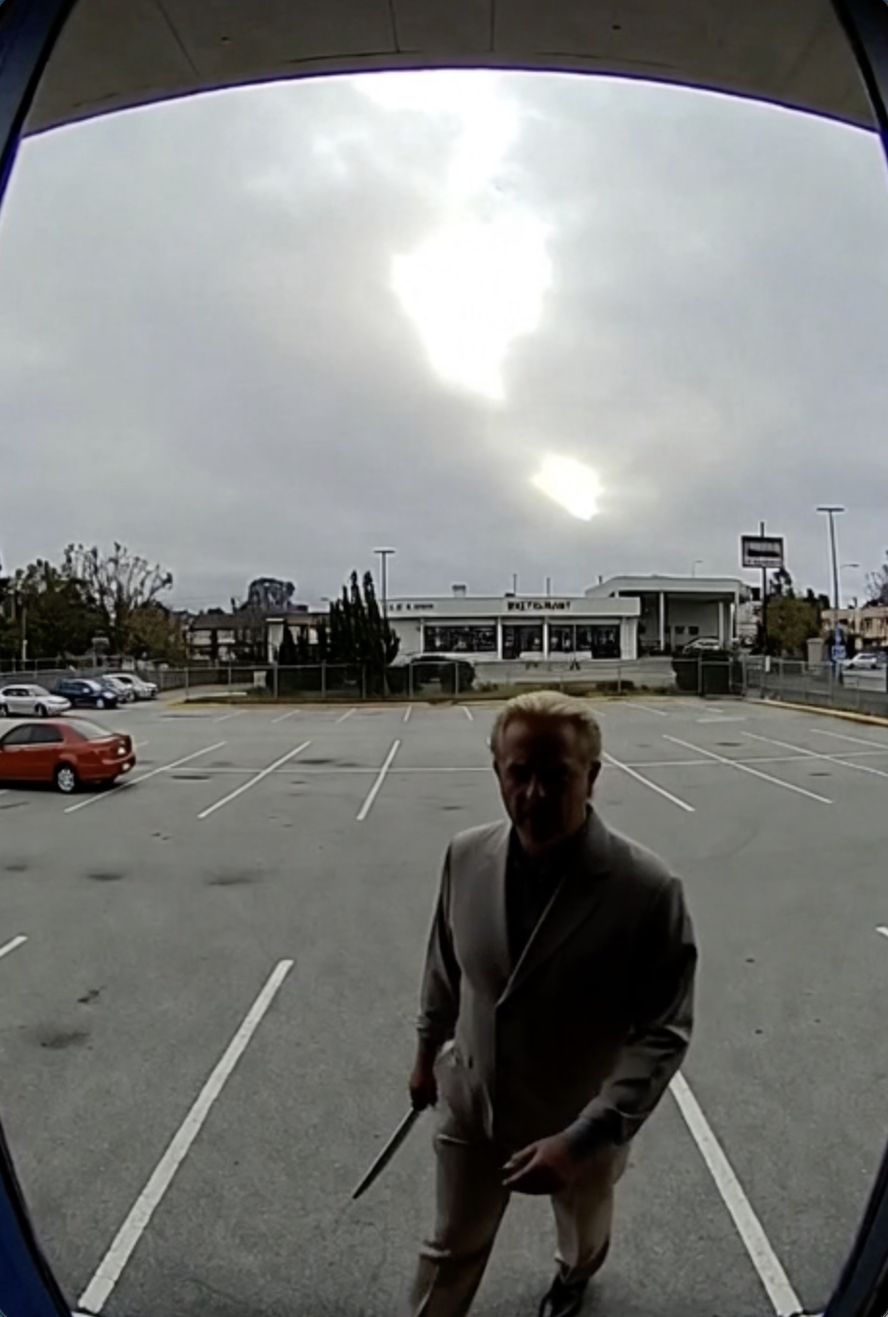Heavy Gun: (406, 691, 701, 1317)
Knife: (353, 1064, 451, 1205)
